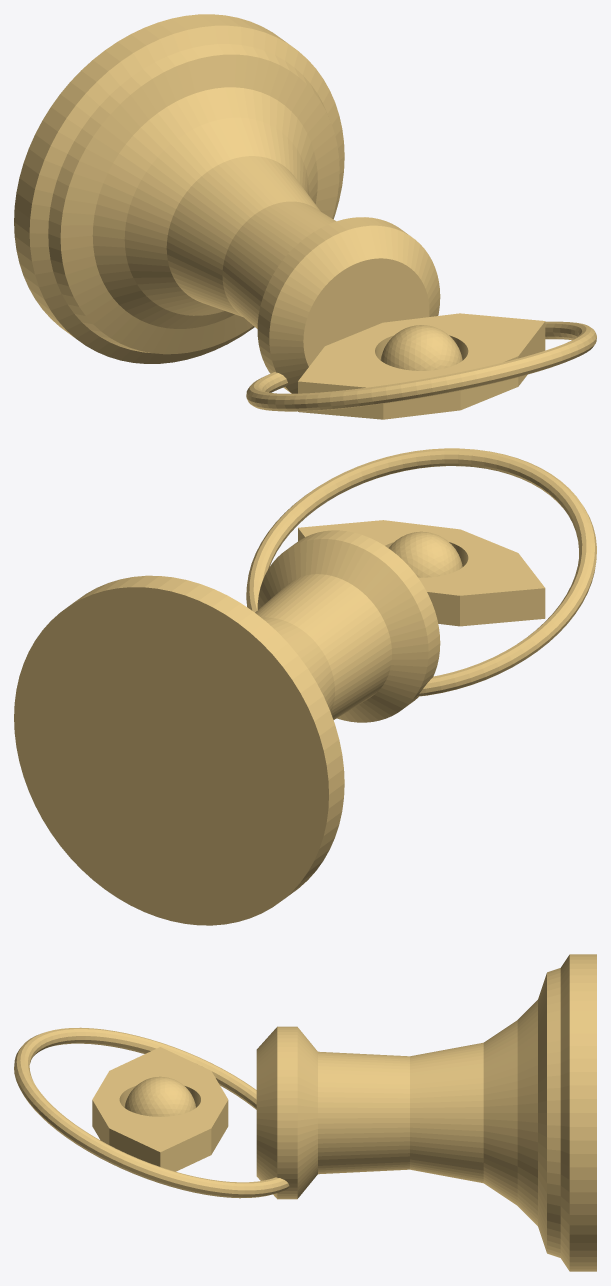
Rendered from divyadrishti_surya.glb.
3 renders of one model, top to bottom at view 1: azimuth 30°, elevation 25°; view 2: azimuth 150°, elevation 25°; view 3: azimuth 270°, elevation 25°, orthographic. The views are drawn at different scales.
Visible parts, largest first — view 1: geometry_0; view 2: geometry_0; view 3: geometry_0.
Boxes of the visible parts, x1=… form: geometry_0: x1=14, y1=14, x2=596, y2=419; geometry_0: x1=14, y1=448, x2=596, y2=925; geometry_0: x1=14, y1=954, x2=596, y2=1271.
Size of the model in its own units: 0.028 by 0.028 by 0.0514.
